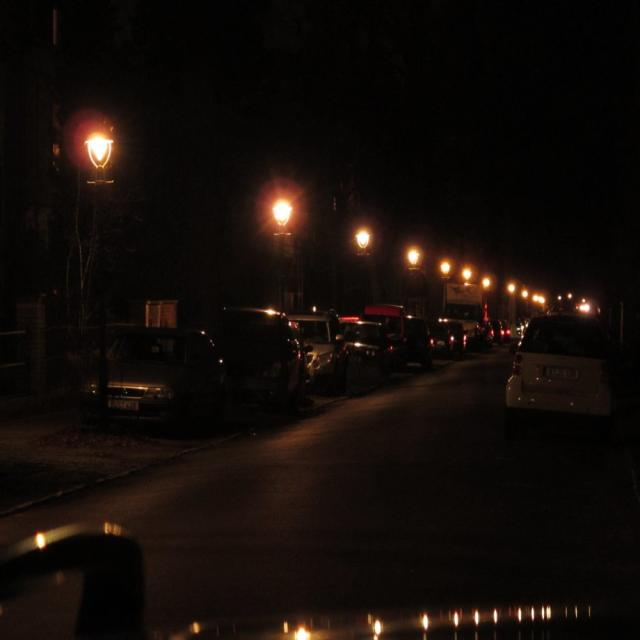Car: (88, 322, 226, 436), (499, 313, 617, 427)
